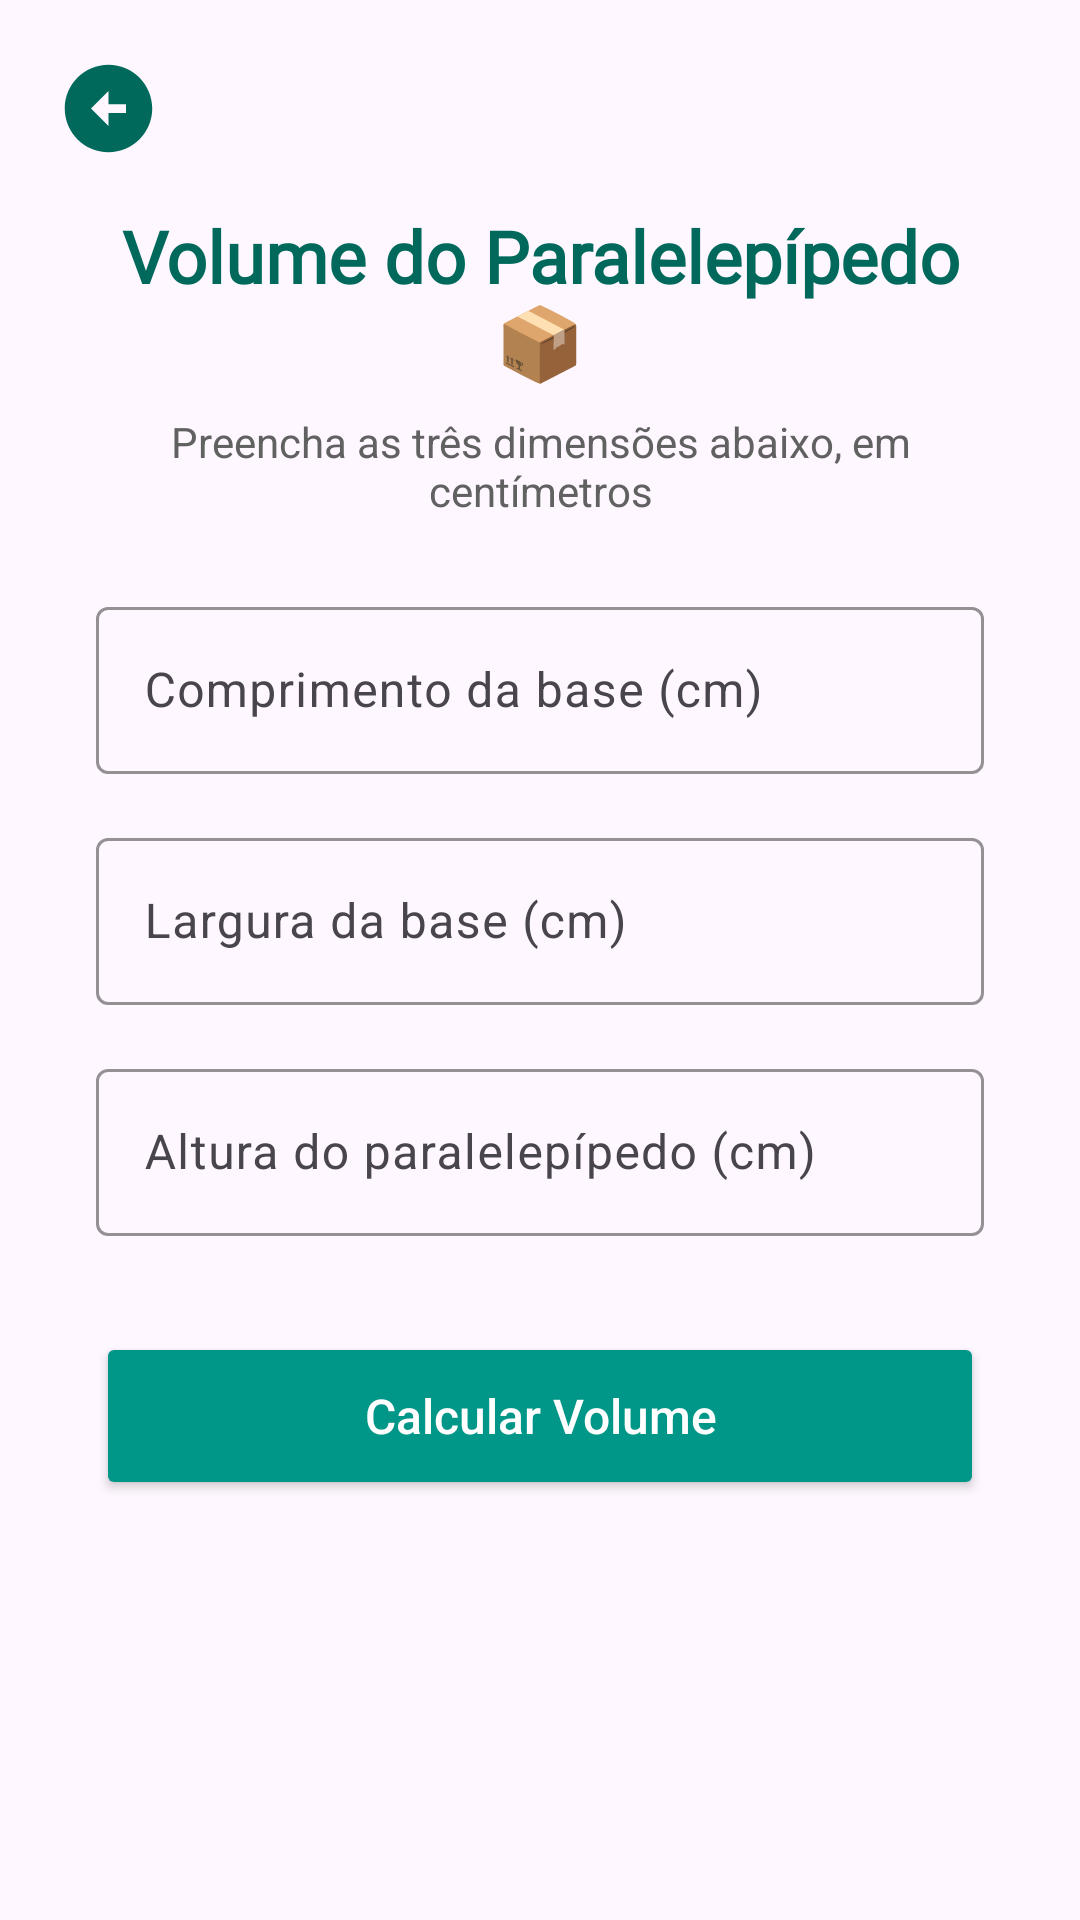

Locate icon controls on the screen. Image size 1080x1920, boxes as (x1, y1, x2, y2).
Voltar: (64, 64, 153, 153)
